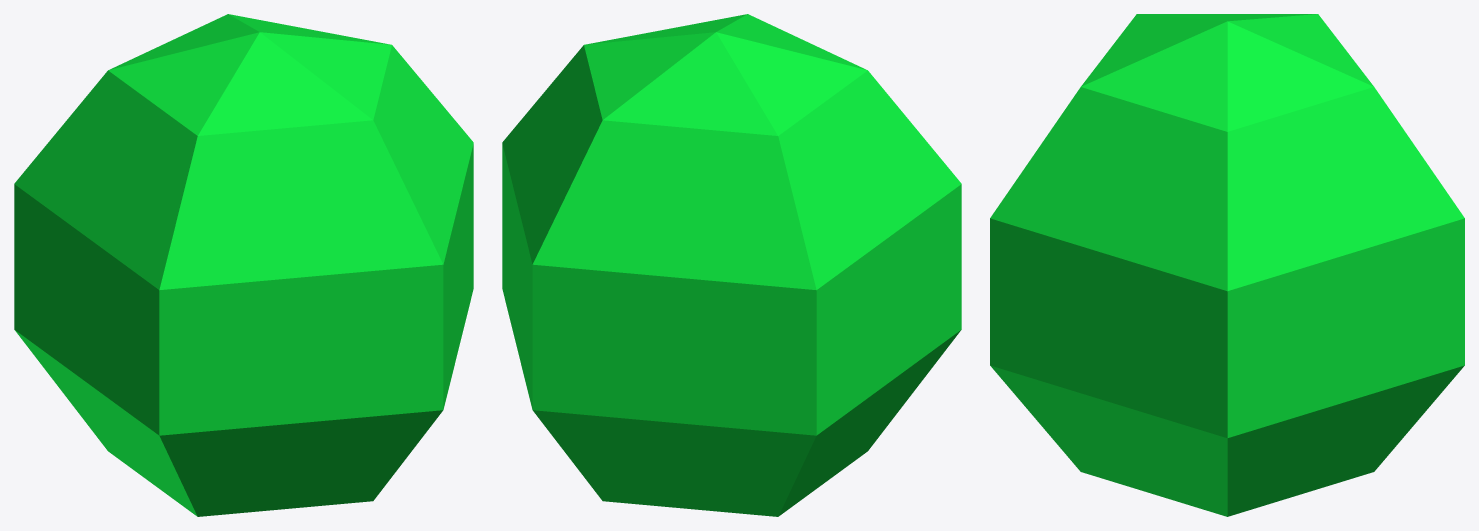
Rendered from trajectory_Green.FBX.
3 views of the same model, side by side, from view 1: azimuth 30°, elevation 25°; view 2: azimuth 150°, elevation 25°; view 3: azimuth 270°, elevation 25° (orthographic).
Parts seen in each view (by area): view 1: Sphere; view 2: Sphere; view 3: Sphere.
Part boxes in pixels (box(x1,y1,x2,y2)): Sphere: box(14, 14, 473, 516); Sphere: box(502, 14, 961, 516); Sphere: box(990, 14, 1464, 516).
Size of the model in its own units: 0.4301 by 0.4523 by 0.5.
